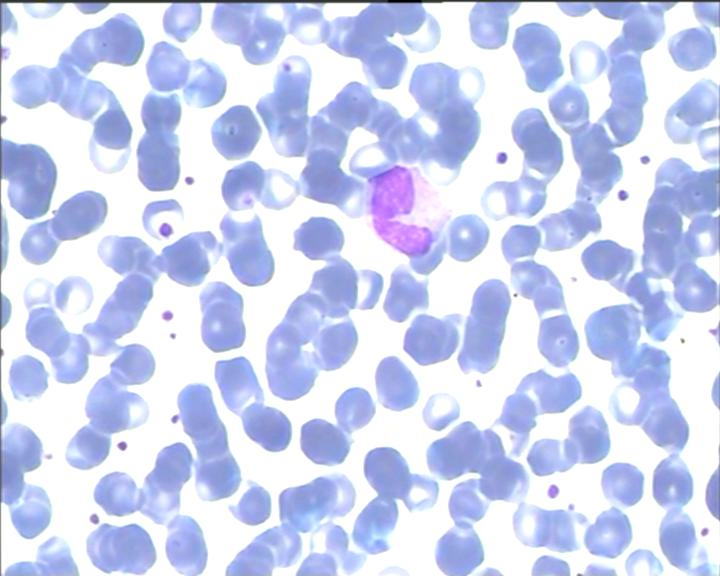mono: (362, 162, 450, 261)
